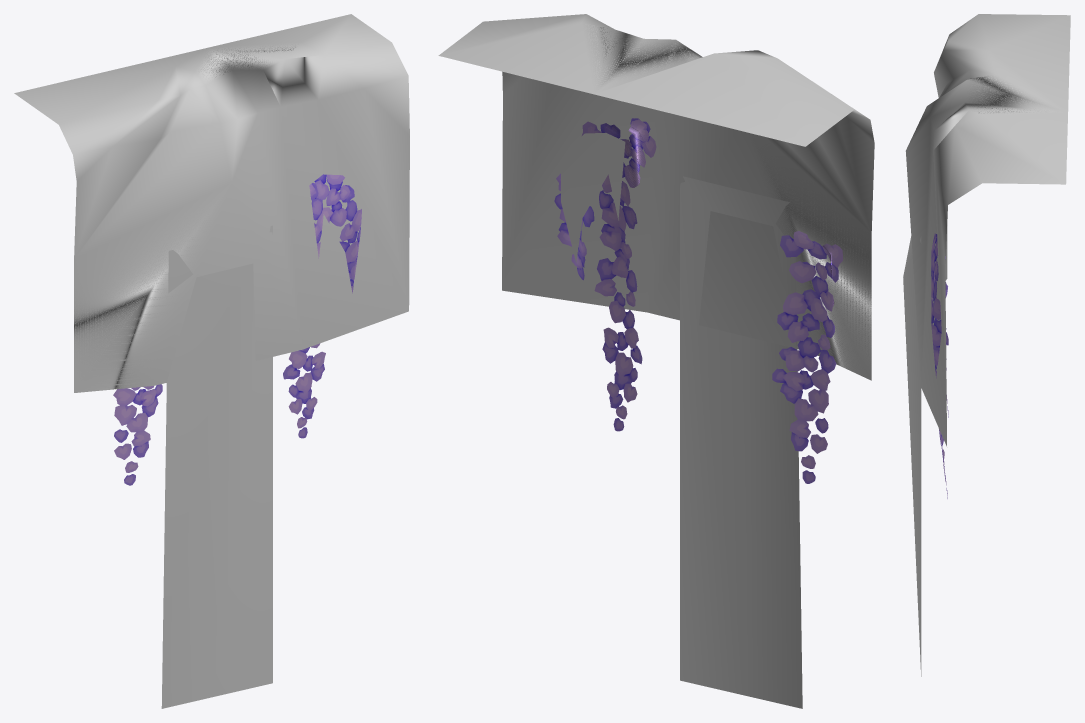
The model's file is SM_Env_Vines_Preset_Overhang_01.fbx.
3 views of the same model, side by side, from view 1: azimuth 30°, elevation 25°; view 2: azimuth 150°, elevation 25°; view 3: azimuth 270°, elevation 25° (orthographic). The views are drawn at different scales.
Parts seen in each view (by area): view 1: SM_Env_Vines_Preset_Overhang_01; view 2: SM_Env_Vines_Preset_Overhang_01; view 3: SM_Env_Vines_Preset_Overhang_01.
Boxes of the visible parts, left/top/right/bottom form: SM_Env_Vines_Preset_Overhang_01: left=14, top=14, right=409, bottom=708; SM_Env_Vines_Preset_Overhang_01: left=438, top=14, right=874, bottom=708; SM_Env_Vines_Preset_Overhang_01: left=903, top=14, right=1070, bottom=676.
Bounding box in the file's own units: 155 × 268 × 65.
